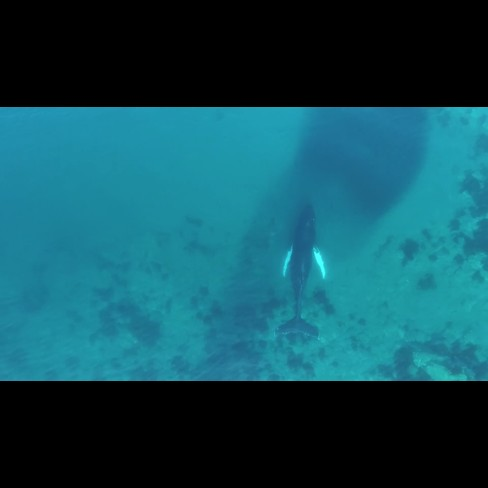hump: (273, 198, 334, 345)
